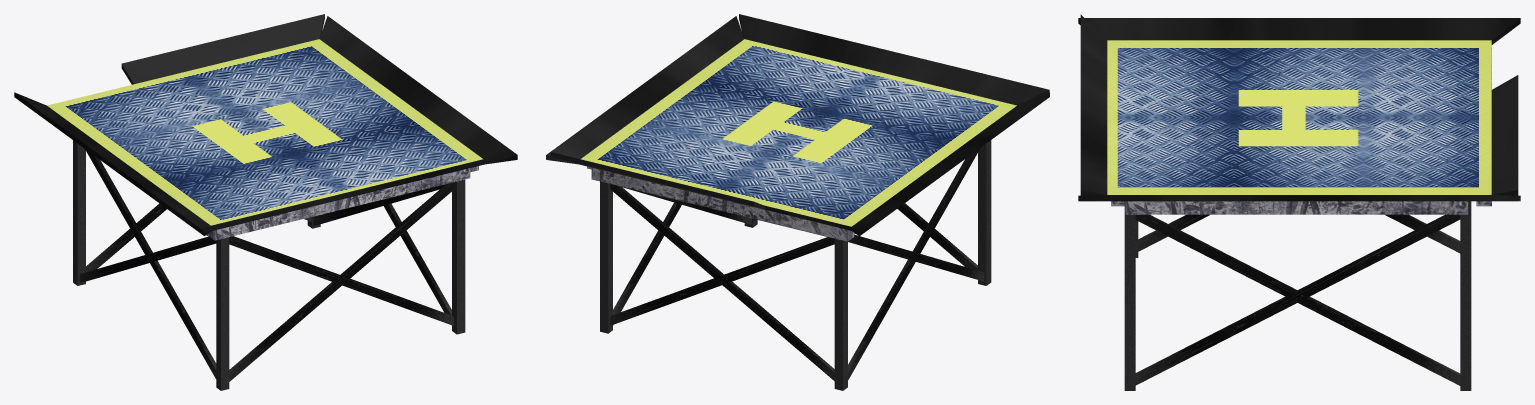
Rendered from Helipad.obj.
3 renders of one model, left to right at view 1: azimuth 30°, elevation 25°; view 2: azimuth 150°, elevation 25°; view 3: azimuth 270°, elevation 25°, orthographic. The views are drawn at different scales.
Visible parts, largest first — view 1: Cube.001_Cube.003, Cube.013_Cube.000, Cube.001_Cube.000, Cube.014_Cube.000, Cube.008_Cube.000, Cube.006_Cube.000, Cube.012_Cube.000, Cube.007_Cube.000, Cube.011_Cube.000, Cube.010_Cube.000, Cube.009_Cube.000, Cube.016_Cube.000; view 2: Cube.001_Cube.003, Cube.004_Cube.000, Cube.016_Cube.000, Cube.015_Cube.000, Cube.011_Cube.000, Cube.007_Cube.000, Cube.005_Cube.000, Cube.008_Cube.000, Cube.012_Cube.000, Cube.009_Cube.000, Cube.013_Cube.000, Cube.010_Cube.000; view 3: Cube.001_Cube.003, Cube.002_Cube.000, Cube.010_Cube.000, Cube.009_Cube.000, Cube.005_Cube.000, Cube.006_Cube.000, Cube.011_Cube.000, Cube.012_Cube.000.
Boxes of the visible parts, bbox=[...] form: Cube.001_Cube.003: bbox=[14, 14, 517, 235]; Cube.013_Cube.000: bbox=[229, 182, 453, 381]; Cube.001_Cube.000: bbox=[208, 168, 470, 240]; Cube.014_Cube.000: bbox=[229, 236, 453, 325]; Cube.008_Cube.000: bbox=[216, 237, 229, 390]; Cube.006_Cube.000: bbox=[452, 179, 465, 334]; Cube.012_Cube.000: bbox=[85, 149, 216, 378]; Cube.007_Cube.000: bbox=[73, 140, 85, 285]; Cube.011_Cube.000: bbox=[79, 236, 216, 282]; Cube.010_Cube.000: bbox=[383, 199, 451, 315]; Cube.009_Cube.000: bbox=[313, 184, 445, 225]; Cube.016_Cube.000: bbox=[86, 203, 166, 271]; Cube.001_Cube.003: bbox=[546, 14, 1049, 236]; Cube.004_Cube.000: bbox=[591, 167, 854, 241]; Cube.016_Cube.000: bbox=[610, 184, 834, 380]; Cube.015_Cube.000: bbox=[610, 237, 834, 325]; Cube.011_Cube.000: bbox=[848, 148, 980, 380]; Cube.007_Cube.000: bbox=[834, 239, 847, 390]; Cube.005_Cube.000: bbox=[600, 181, 612, 333]; Cube.008_Cube.000: bbox=[978, 140, 991, 285]; Cube.012_Cube.000: bbox=[848, 234, 984, 281]; Cube.009_Cube.000: bbox=[613, 201, 681, 325]; Cube.013_Cube.000: bbox=[897, 203, 977, 270]; Cube.010_Cube.000: bbox=[622, 187, 751, 224]; Cube.001_Cube.003: bbox=[1078, 14, 1520, 201]; Cube.002_Cube.000: bbox=[1125, 201, 1468, 214]; Cube.010_Cube.000: bbox=[1135, 214, 1460, 385]; Cube.009_Cube.000: bbox=[1135, 214, 1460, 385]; Cube.005_Cube.000: bbox=[1460, 201, 1471, 390]; Cube.006_Cube.000: bbox=[1124, 201, 1135, 390]; Cube.011_Cube.000: bbox=[1385, 214, 1460, 253]; Cube.012_Cube.000: bbox=[1138, 214, 1210, 251].
Bounding box in the file's own units: 14.62 × 8.34 × 15.35.
